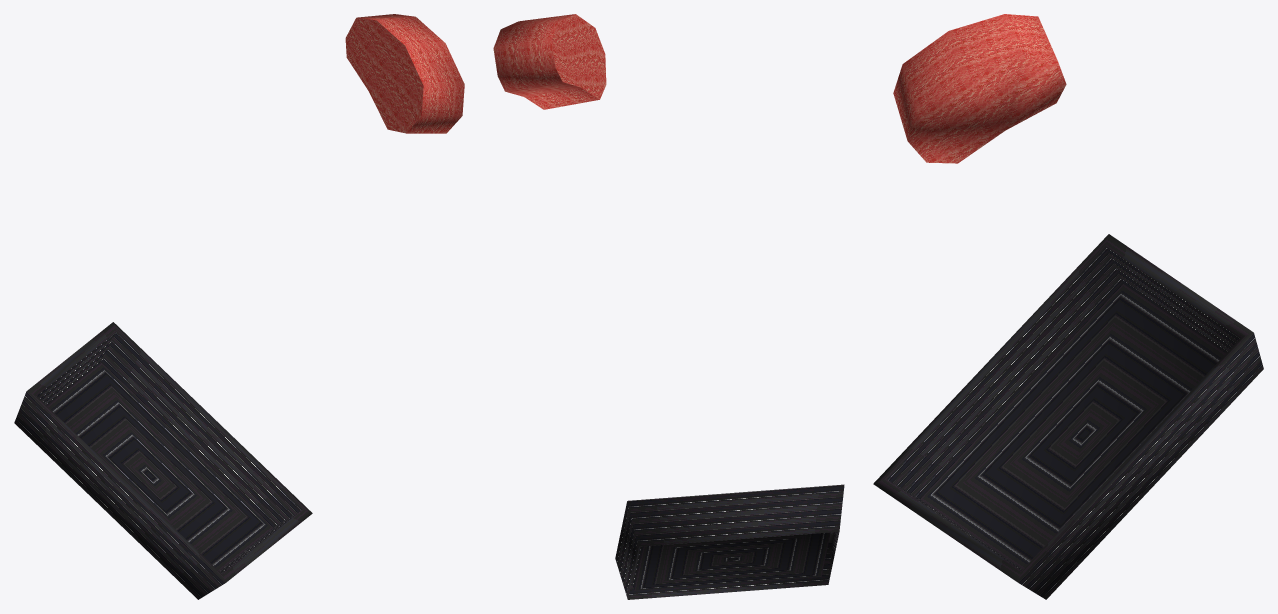
Rendered from 2768item2768e.gltf.
3 renders of one model, left to right at view 1: azimuth 30°, elevation 25°; view 2: azimuth 150°, elevation 25°; view 3: azimuth 270°, elevation 25°, orthographic. The views are drawn at different scales.
Parts seen in each view (by area): view 1: 2768item2768e; view 2: 2768item2768e; view 3: 2768item2768e.
Part boxes in pixels (x1,y1,x2,y2): 2768item2768e: (14, 14, 464, 599); 2768item2768e: (493, 14, 844, 599); 2768item2768e: (873, 14, 1263, 599).
Bounding box in the file's own units: 1.17 × 1.55 × 0.8616.
Materials: 2 (2 with a texture image).
